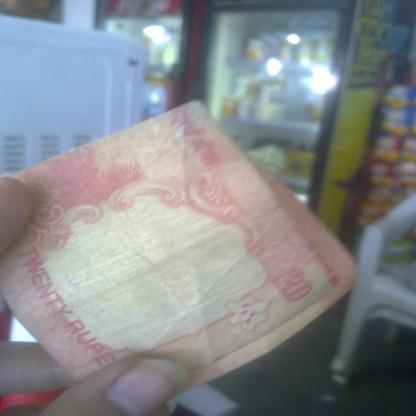Old20Back: (0, 99, 359, 395)
